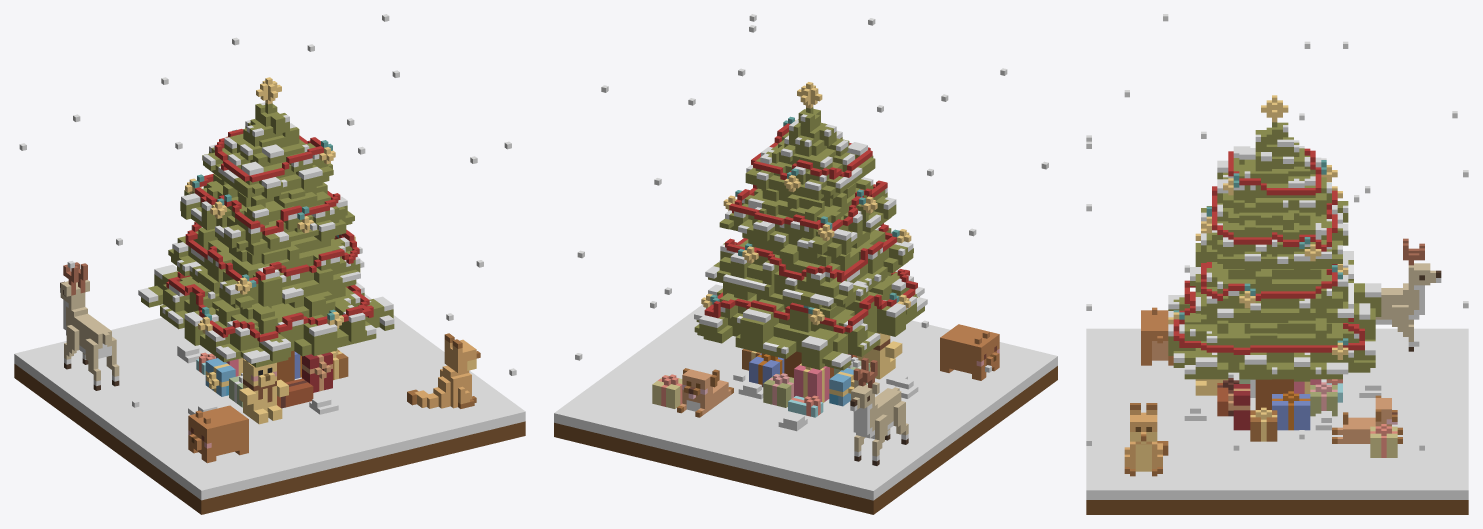
File: Tree6.glb
3 views of the same model, side by side, from view 1: azimuth 30°, elevation 25°; view 2: azimuth 150°, elevation 25°; view 3: azimuth 270°, elevation 25° (orthographic). The views are drawn at different scales.
Parts seen in each view (by area): view 1: XmasTree:Mesh; view 2: XmasTree:Mesh; view 3: XmasTree:Mesh.
Boxes of the visible parts, x1=… form: XmasTree:Mesh: x1=14, y1=14, x2=525, y2=514; XmasTree:Mesh: x1=554, y1=14, x2=1057, y2=514; XmasTree:Mesh: x1=1086, y1=14, x2=1468, y2=514.
Size of the model in its own units: 3.97 by 3.97 by 3.97.
1 material, 1 textured.
